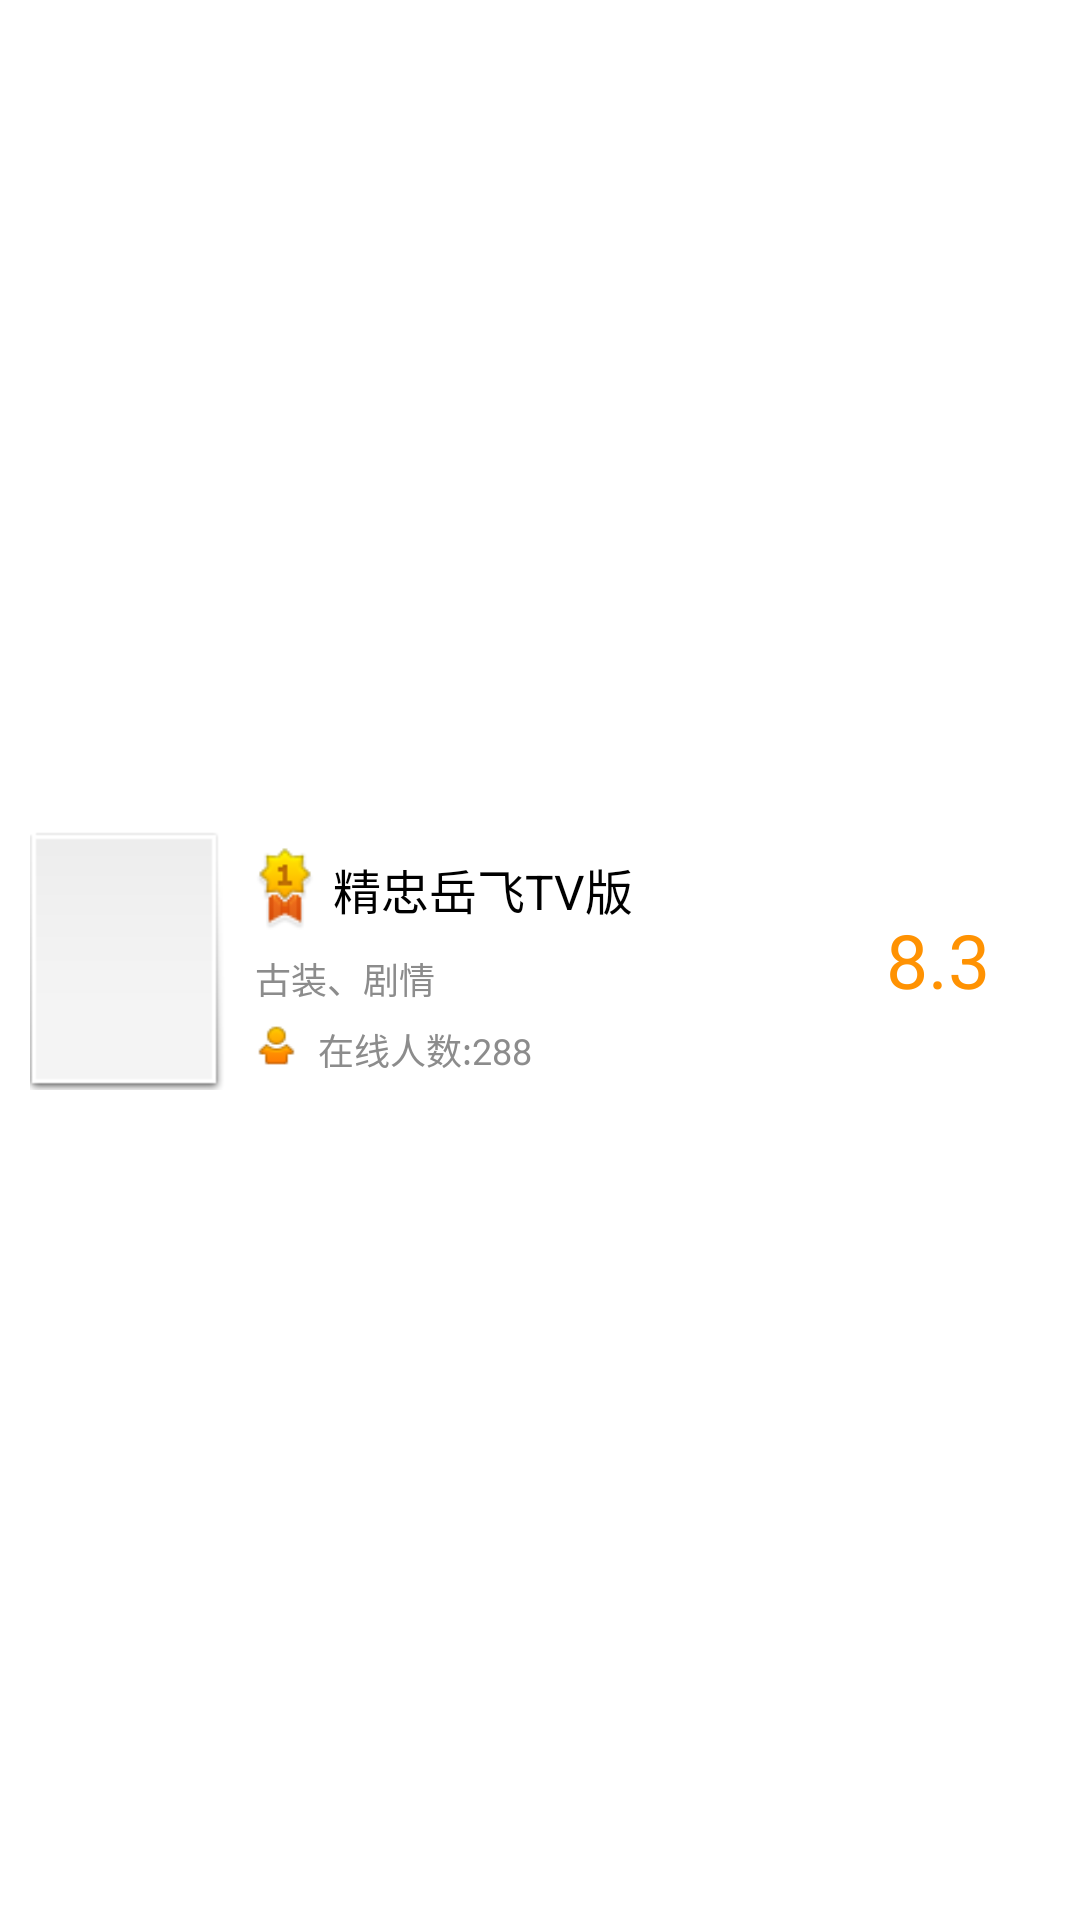

Named icons in this screenshot (1080px×1920px) and their centers, point (x, y):
number: point (285, 886)
